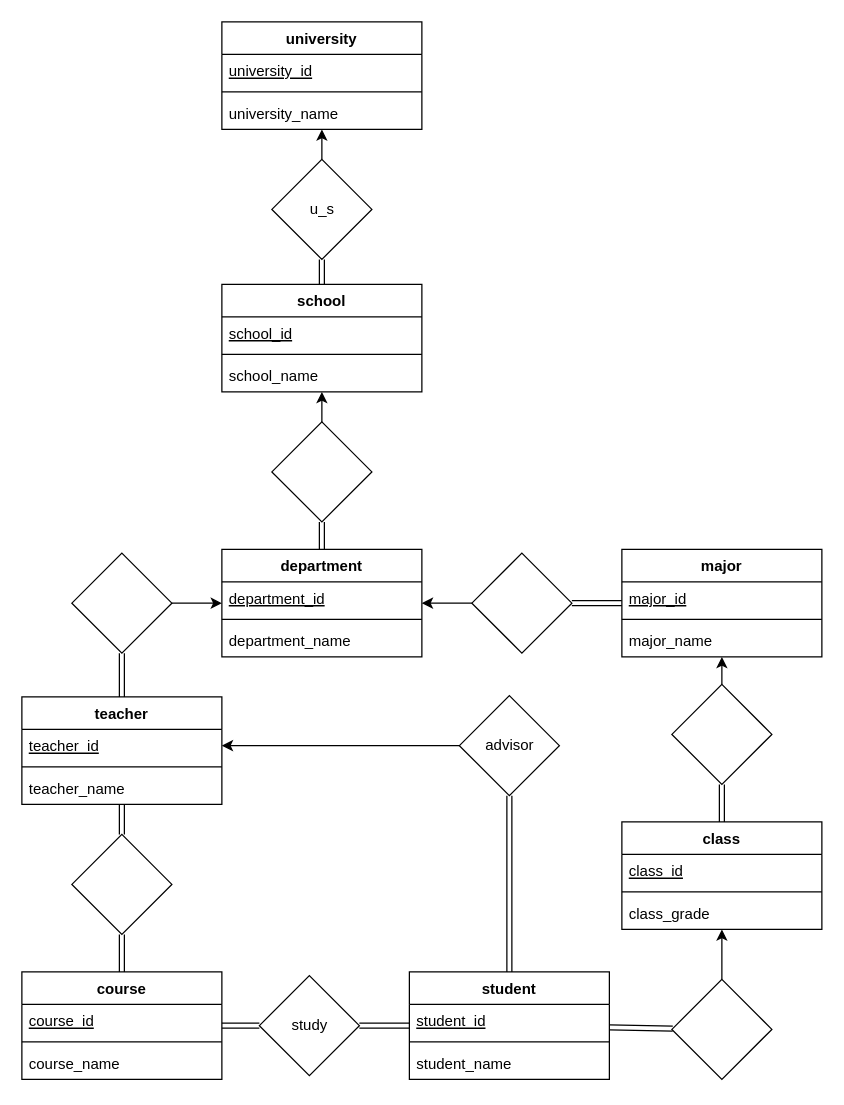
The diagram is 844 pixels wide and 1105 high, and some of its shapes have lost their labels. The box of each missing label's shape, as (x1, y1, x2, y2) in pixels:
m_class: (671, 683, 772, 784)
m_dept: (471, 552, 572, 653)
s_dept: (271, 421, 372, 522)
stu_c: (671, 978, 772, 1079)
t_dept: (71, 552, 172, 653)
teach: (71, 833, 172, 934)
